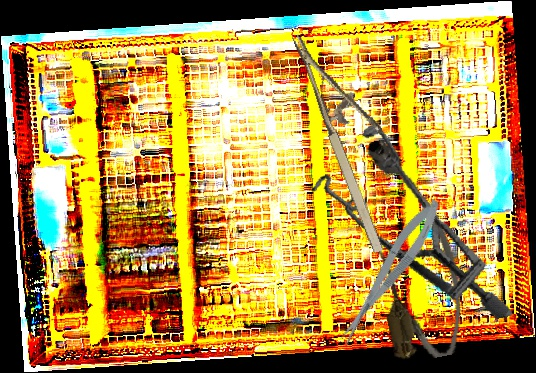Cannula: (353, 130, 473, 366)
Micro Scissor: (328, 194, 450, 350)
Needle Holder: (291, 18, 420, 256)
Speculum: (301, 104, 514, 352)
